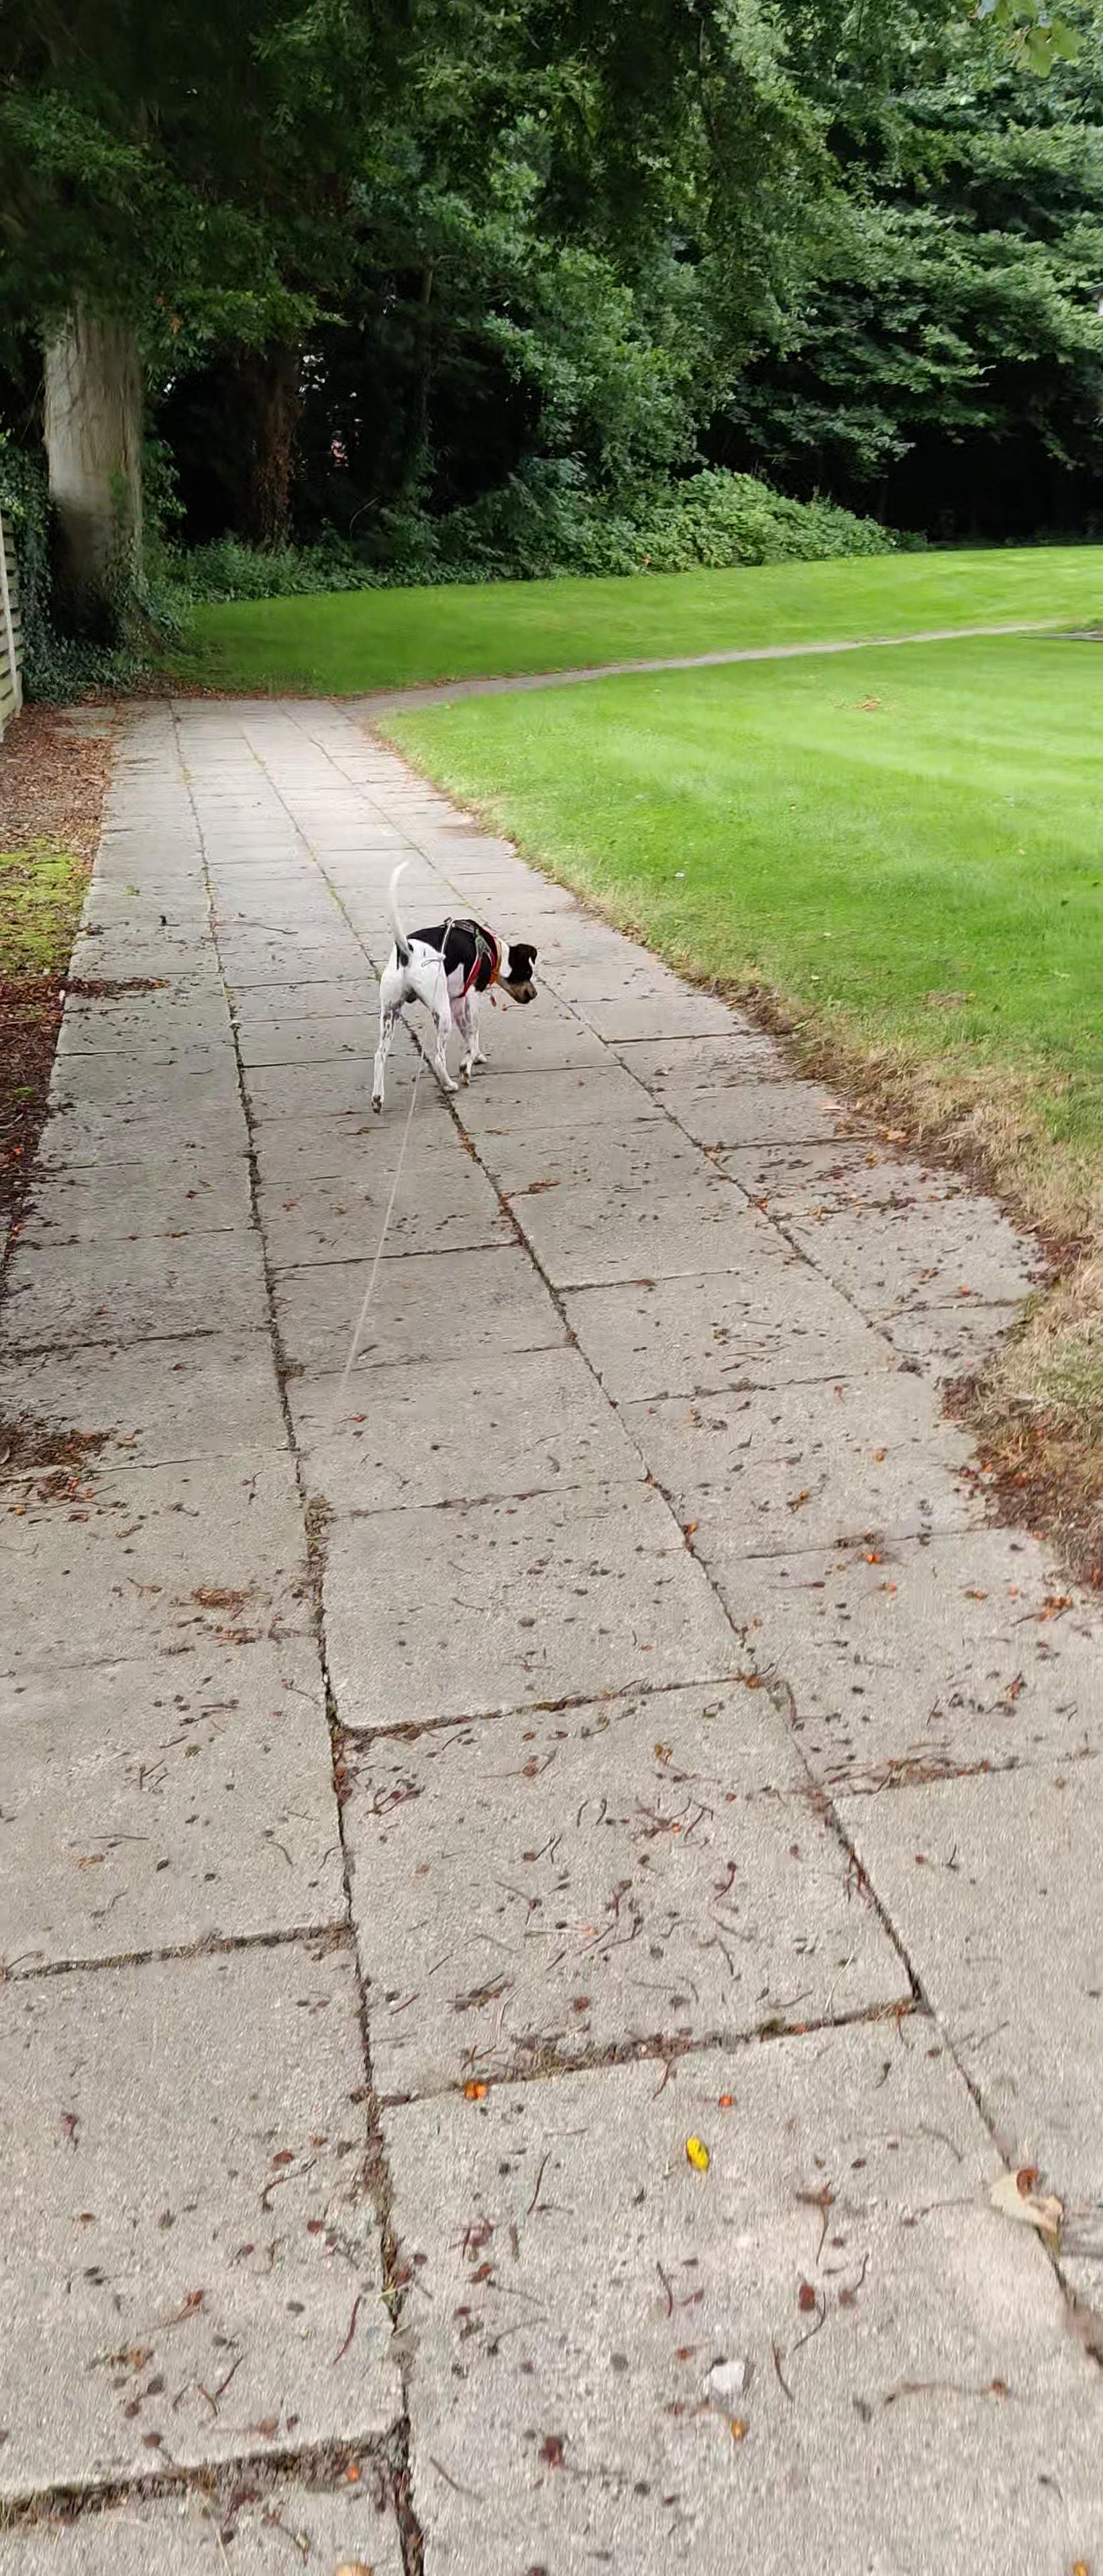Dog: (350, 851, 557, 1122)
